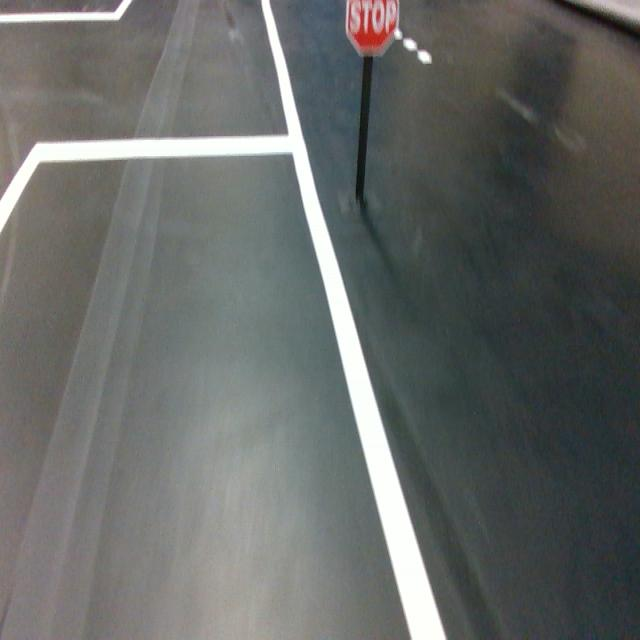stop-sign: (346, 0, 400, 57)
